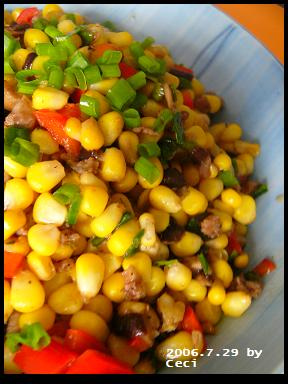corn: (76, 251, 105, 303), (26, 160, 66, 193), (149, 184, 183, 215), (81, 186, 106, 217)
